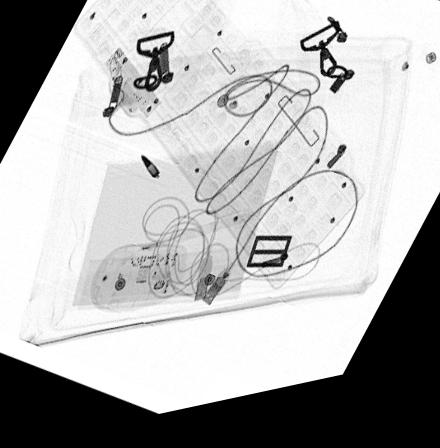Bullet: (139, 161, 159, 185)
